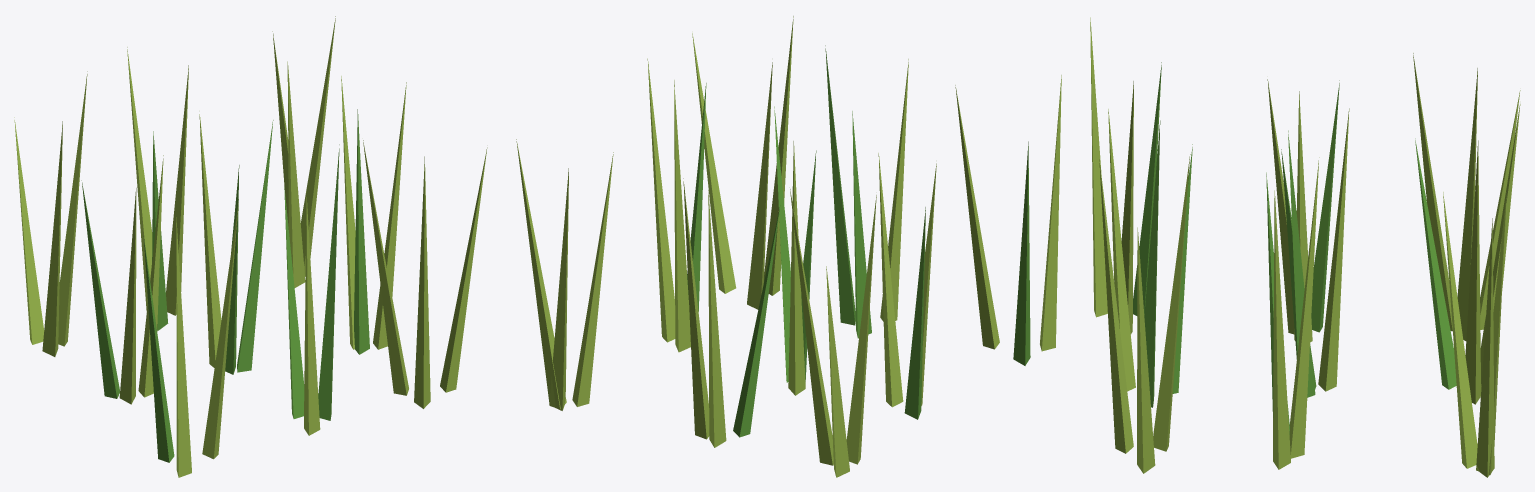
The model's file is wheat-3.glb.
The picture shows the model from 3 angles, left to right: view 1: azimuth 30°, elevation 25°; view 2: azimuth 150°, elevation 25°; view 3: azimuth 270°, elevation 25°; orthographic projection. The views are drawn at different scales.
Parts seen in each view (by area): view 1: wheat-3; view 2: wheat-3; view 3: wheat-3.
Boxes of the visible parts, x1,y1,x2,y2 form: wheat-3: (14, 16, 487, 477); wheat-3: (516, 16, 1061, 477); wheat-3: (1090, 17, 1520, 477).
Bounding box in the file's own units: 0.7315 × 0.5486 × 0.7191.
Materials: 1 (1 with a texture image).
